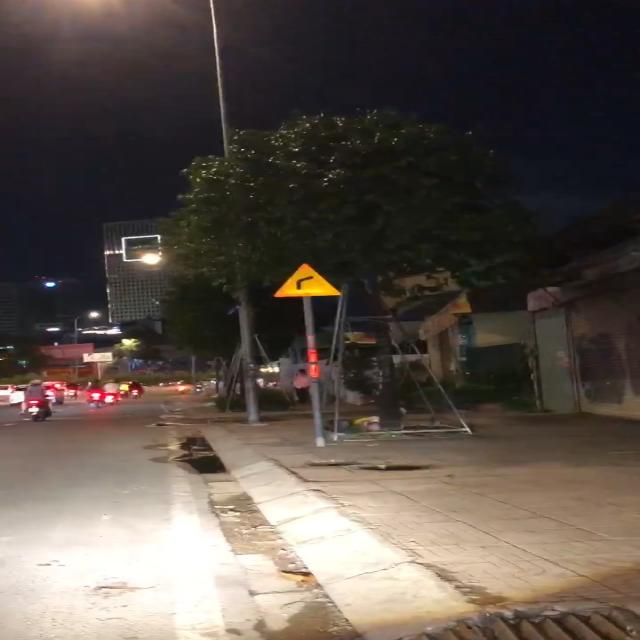Bien bao cho ngoat nguy hiem: (270, 257, 351, 299)
